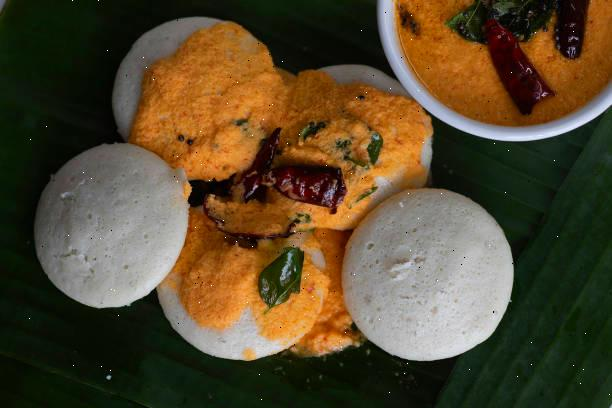idli: (365, 182, 511, 366), (33, 144, 176, 306)
